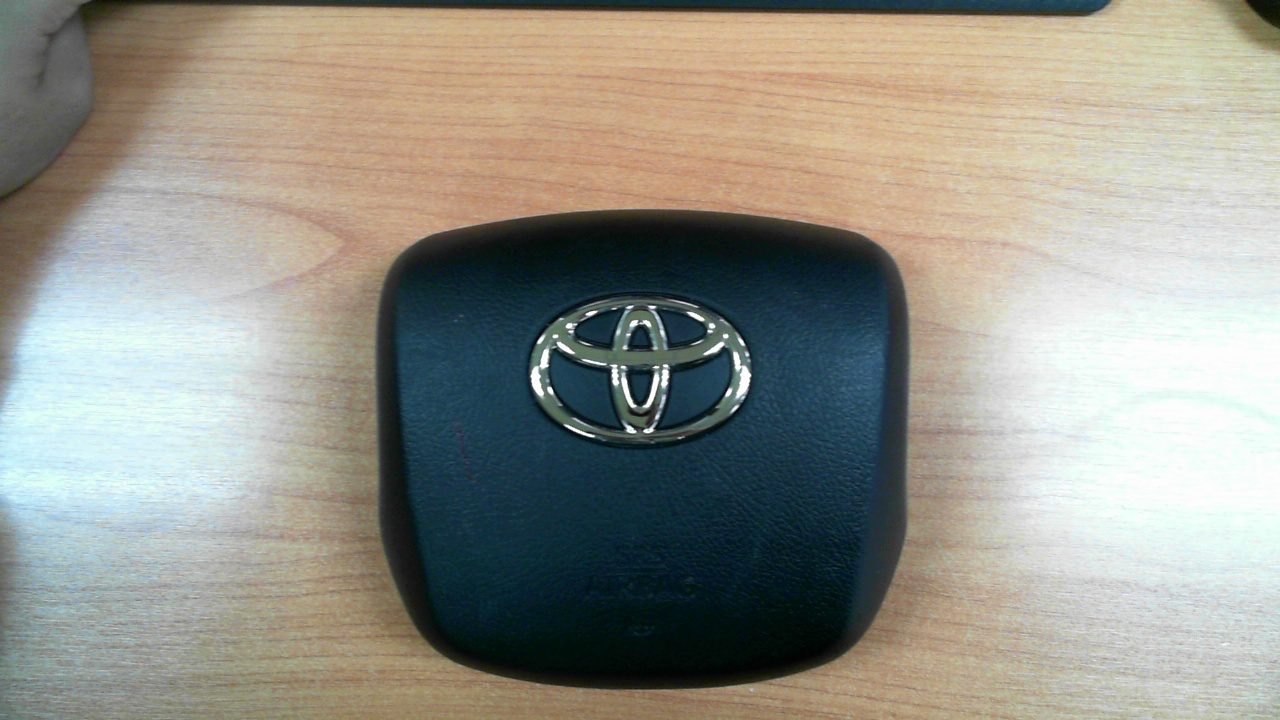Airbag: (370, 210, 914, 689)
Toyota: (528, 295, 753, 445)
